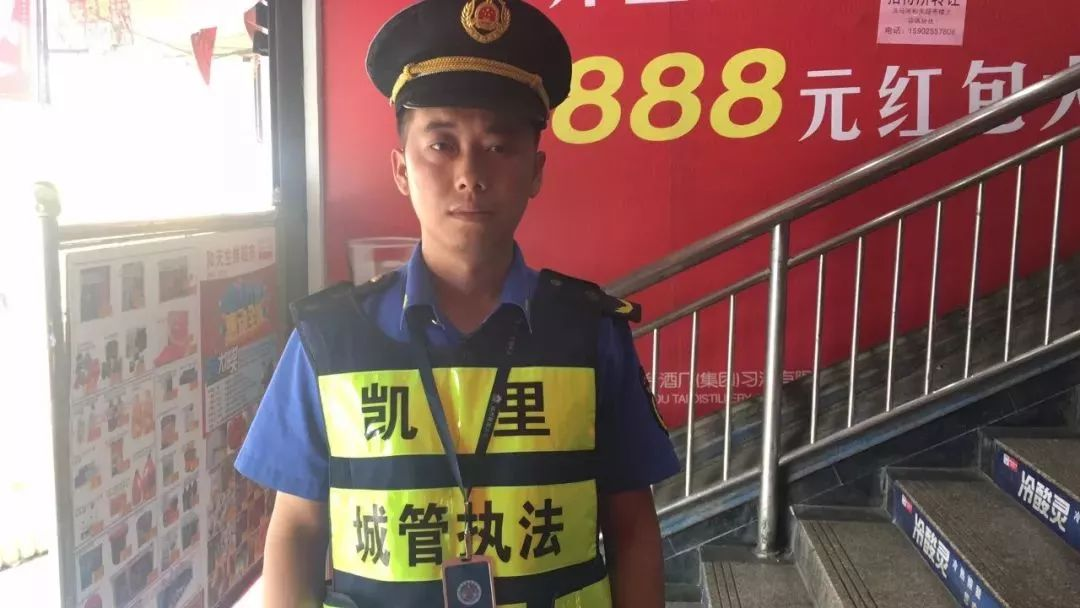other: (239, 21, 717, 598)
